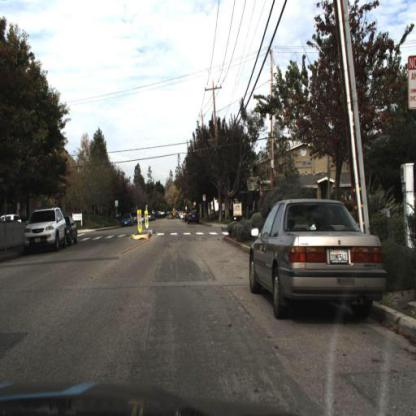car: (248, 190, 389, 326), (22, 206, 67, 255), (63, 213, 81, 246), (188, 206, 202, 227), (120, 214, 136, 230)
